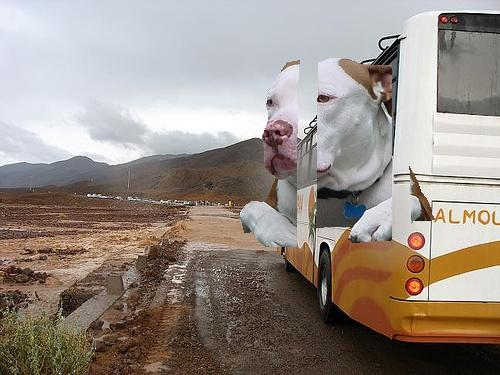tampered: (241, 59, 435, 247)
